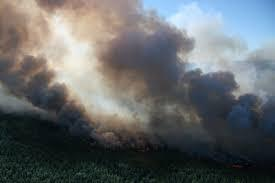yanwu: (1, 1, 273, 147)
